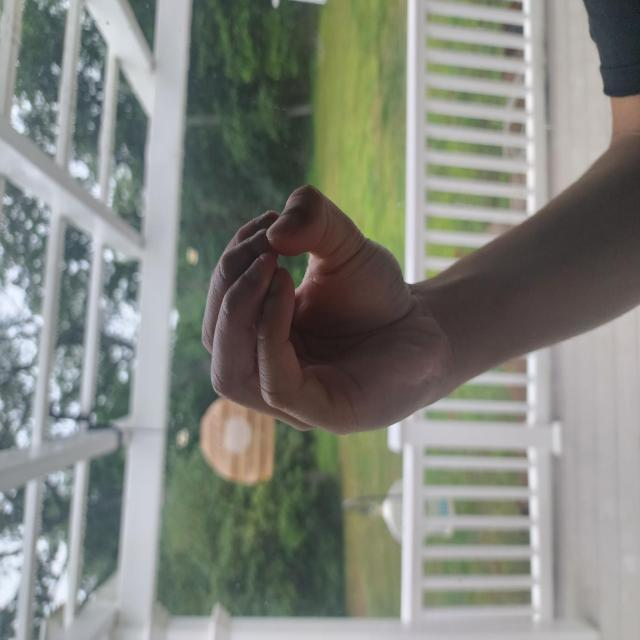O: (150, 265, 344, 620)
